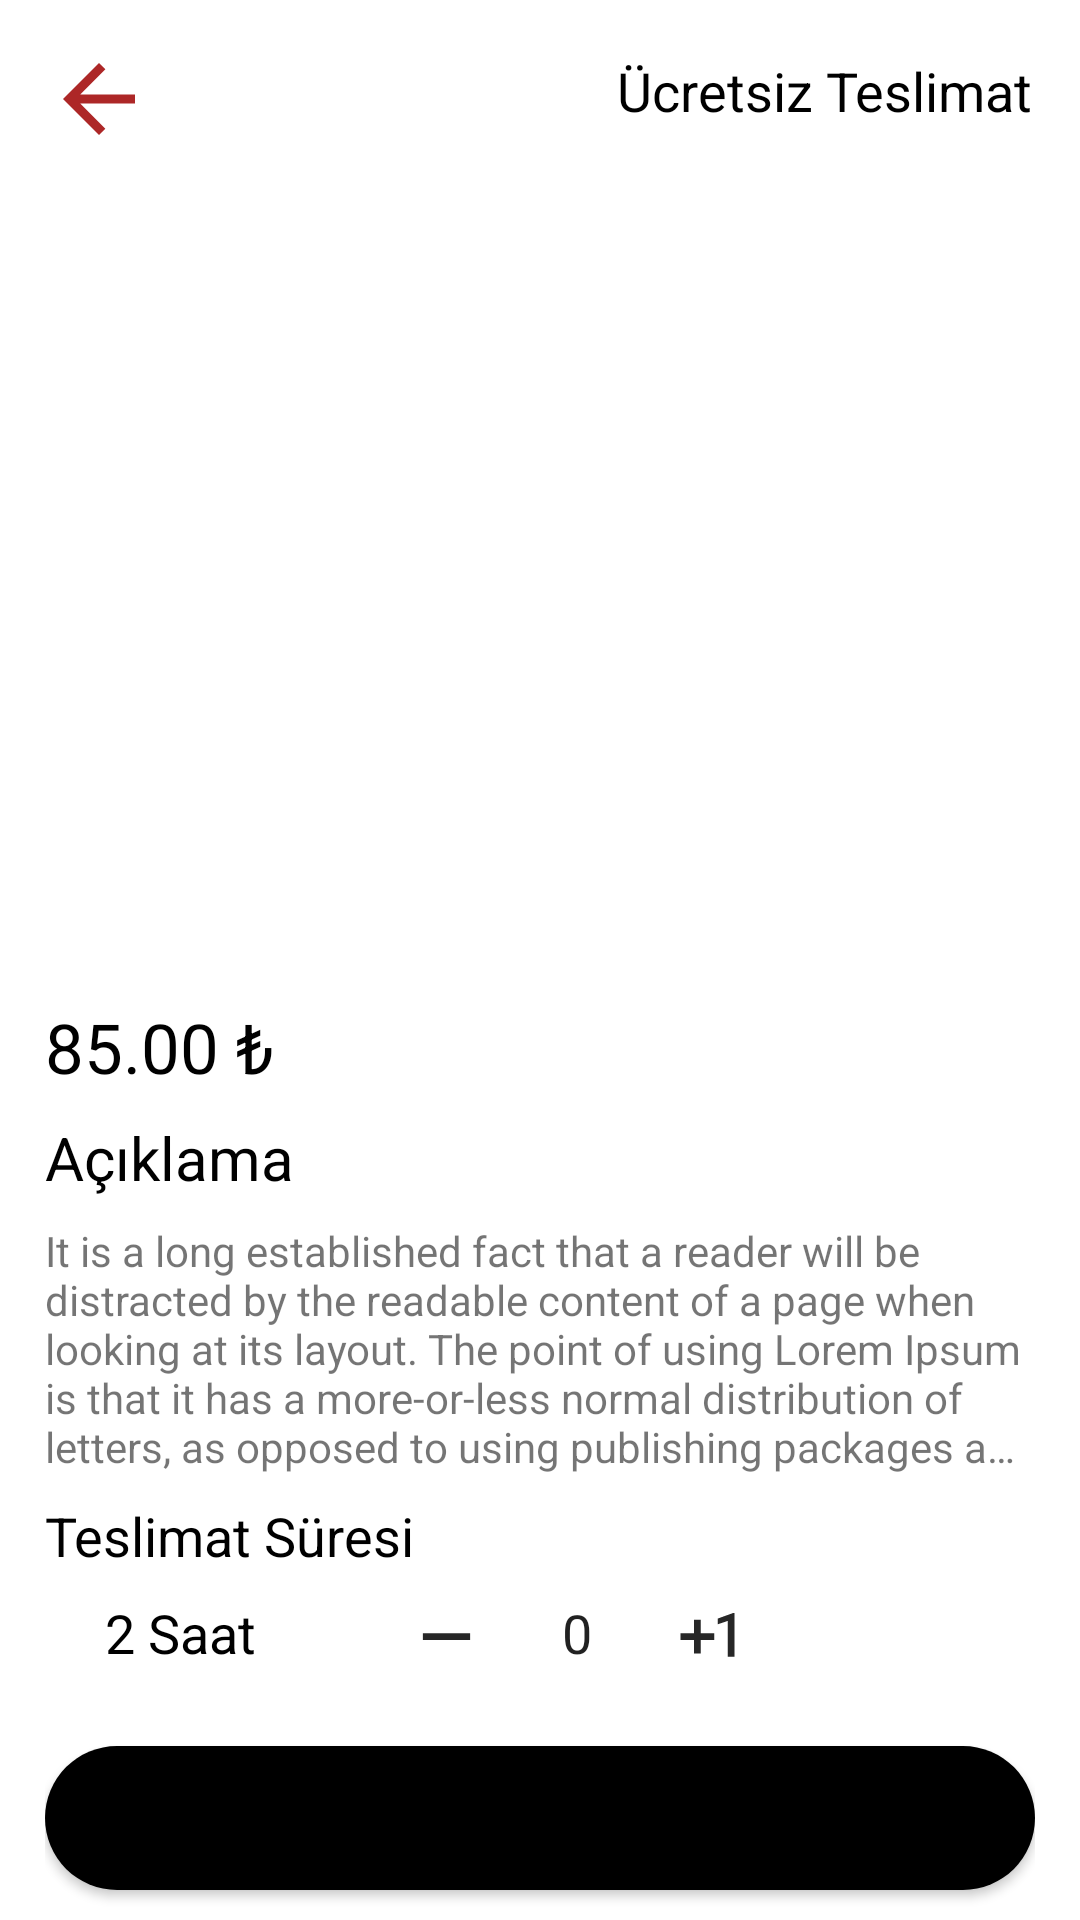

Icon bounding boxes for this 1080 × 1920 phone screenshot, format detection(x1, y1, x2, y2):
arrow back: detection(63, 63, 135, 135)
exposure plus: detection(680, 1613, 735, 1657)
